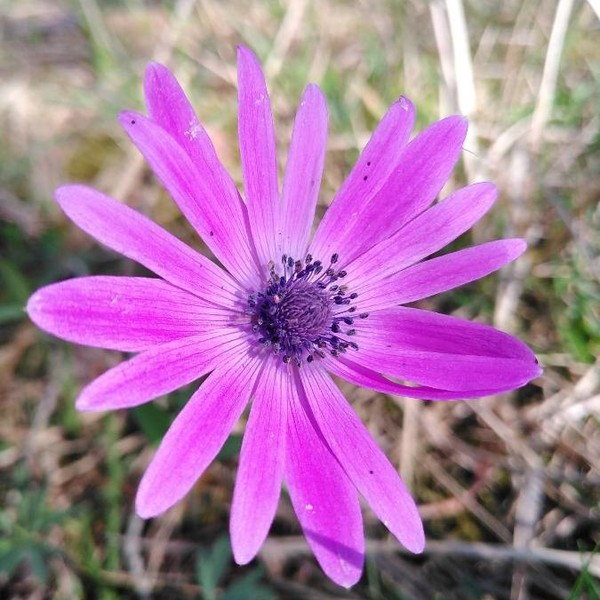obstacle: (46, 43, 552, 582)
